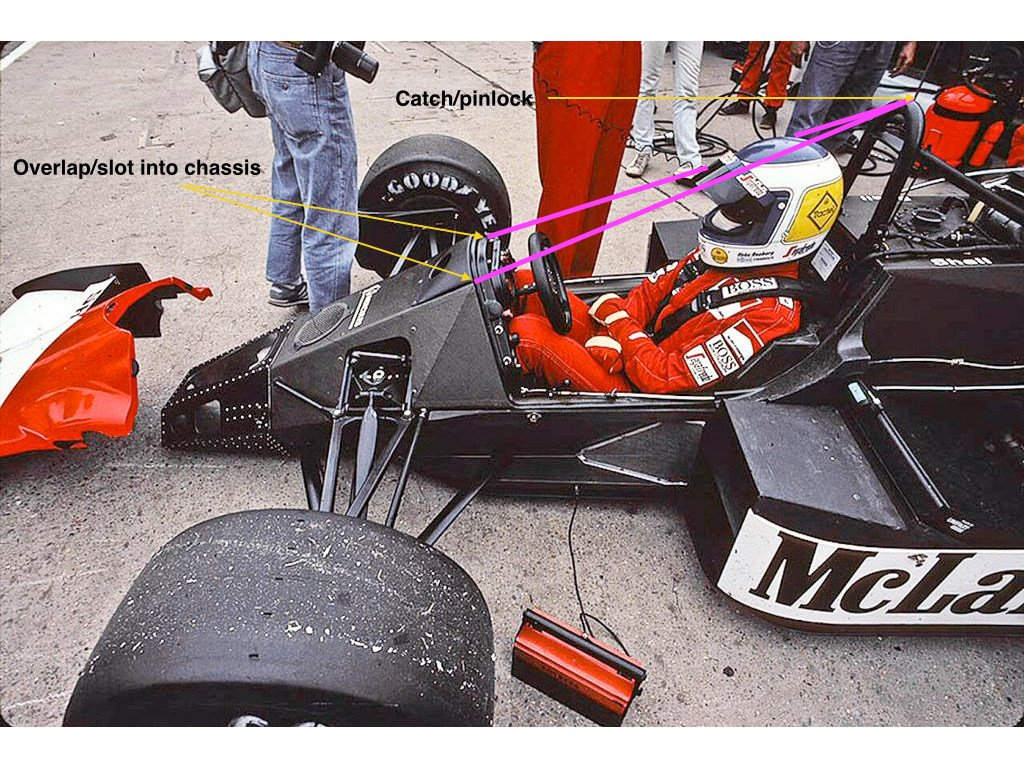f1_car: (2, 90, 1021, 722)
helmet: (685, 129, 851, 277)
